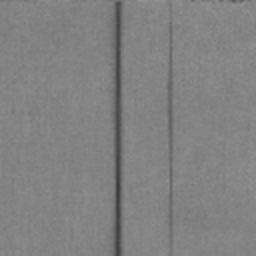Scratches: (111, 0, 124, 256), (166, 0, 177, 256)
